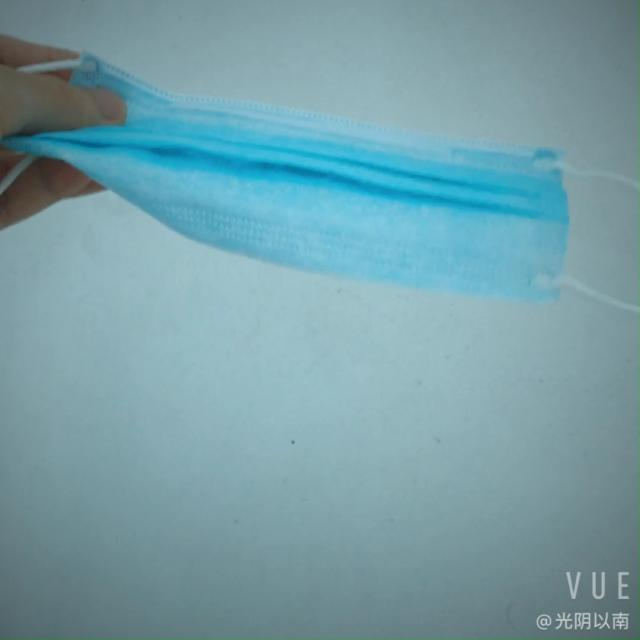face mask: (64, 104, 556, 278)
